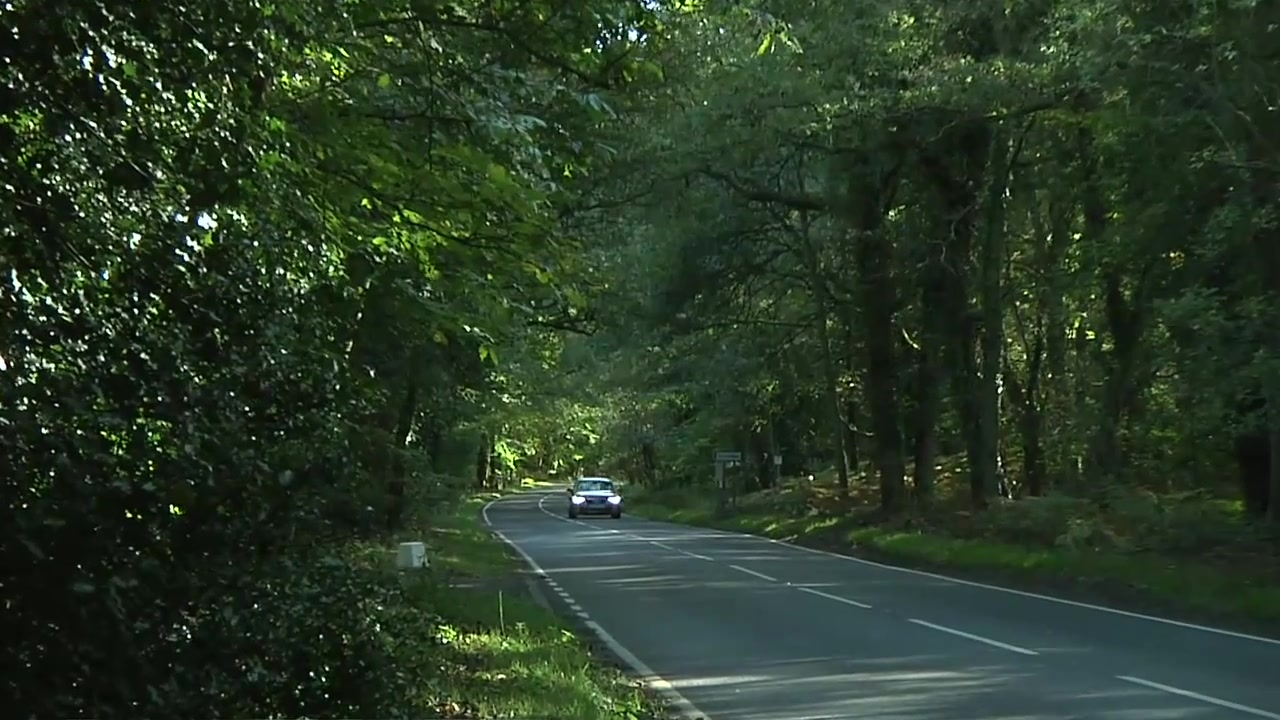car: (567, 476, 626, 521)
